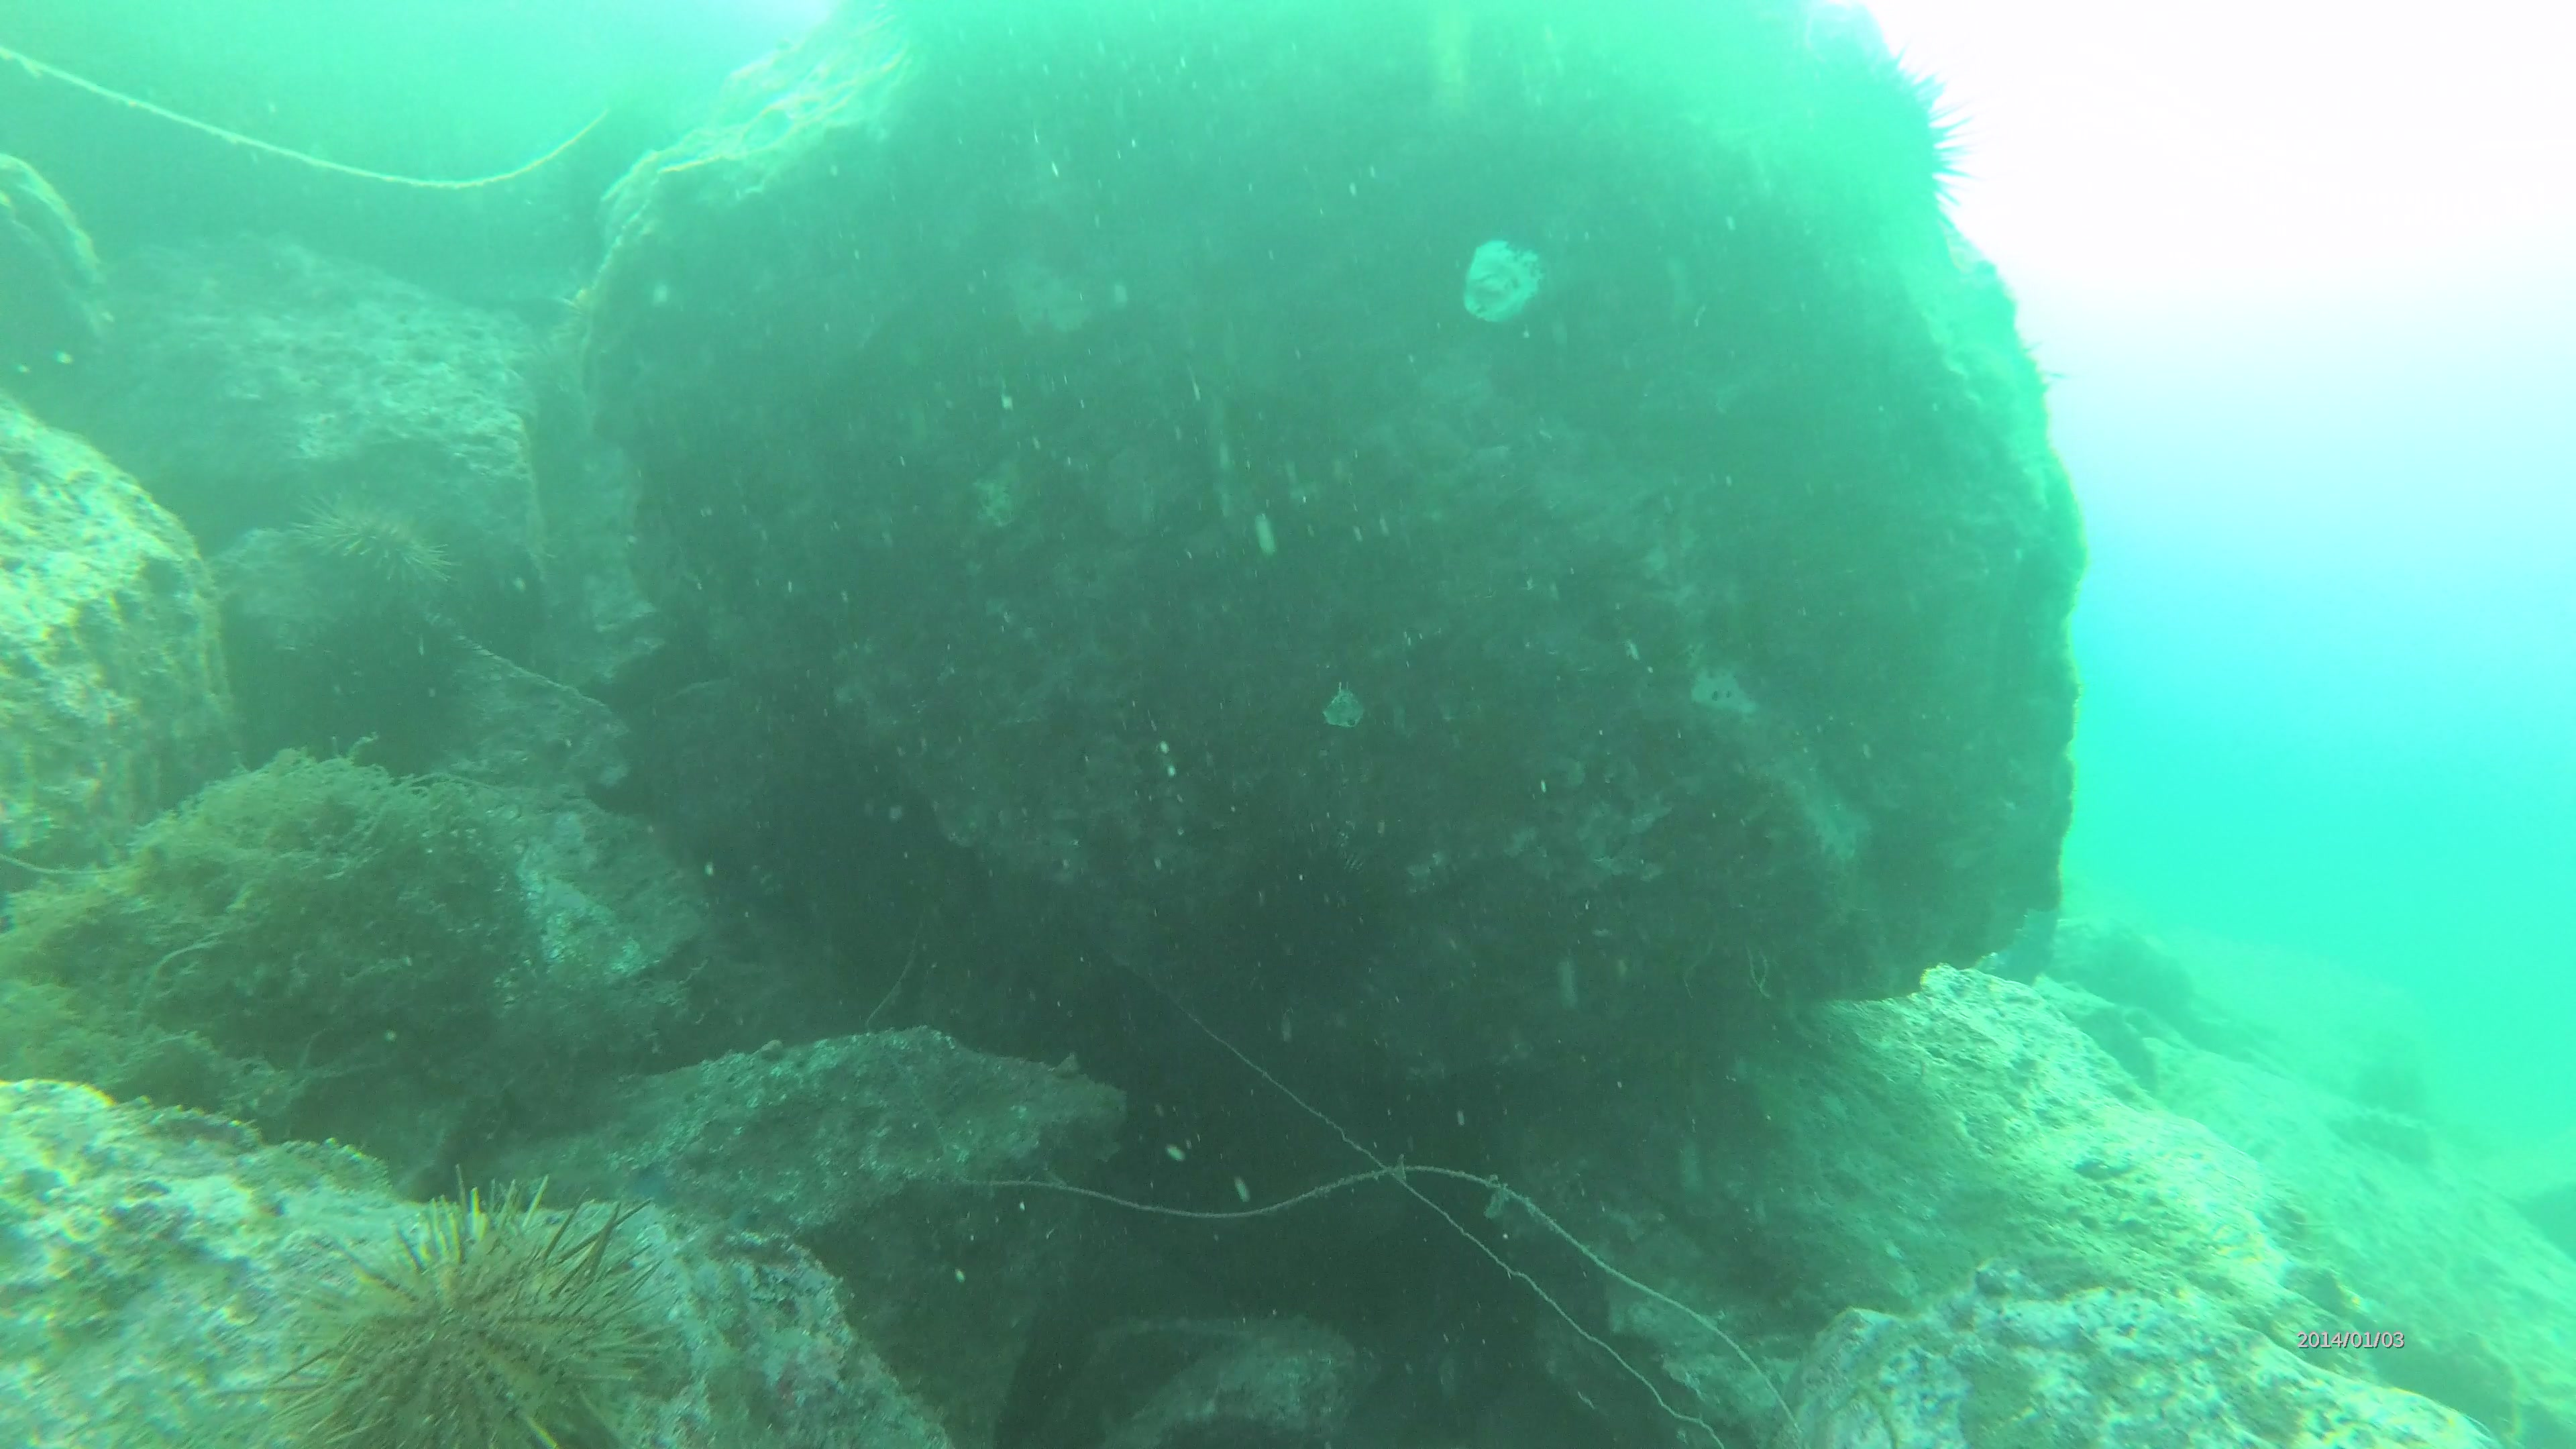echinus: (264, 1182, 678, 1447), (288, 492, 456, 607)
